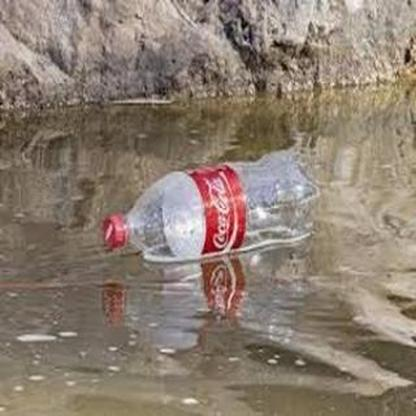plastic bottle: (101, 163, 317, 257)
